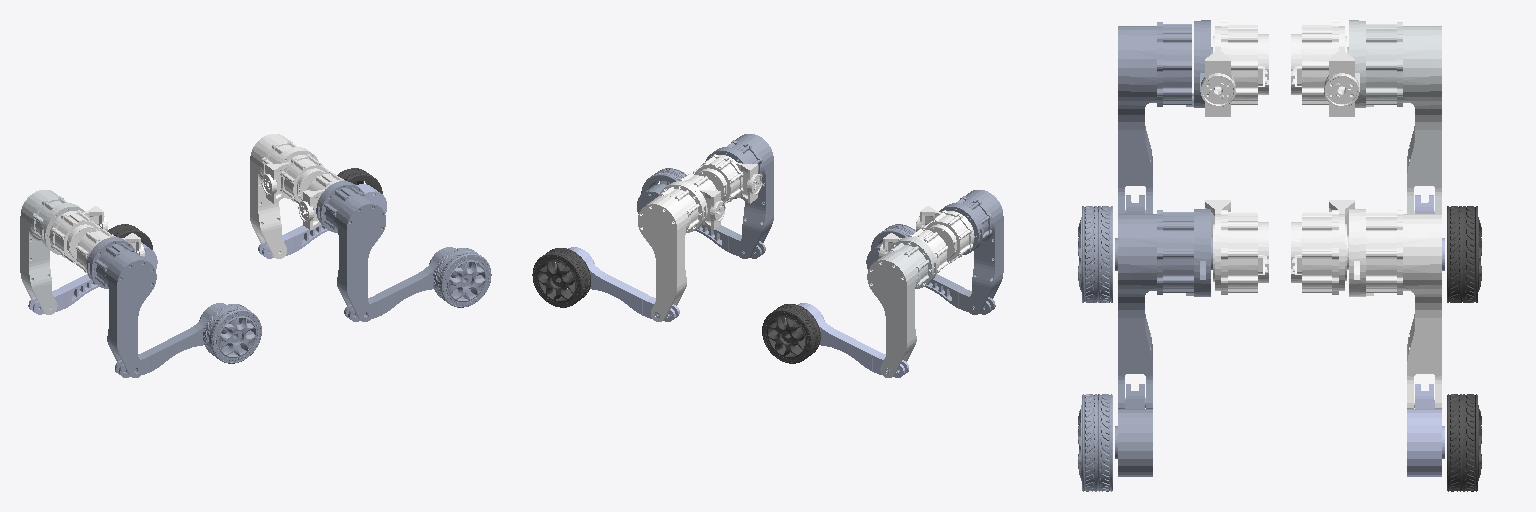
The robot description file, URDF, robot "d1_w_description":
<?xml version="1.0" encoding="utf-8"?>
<!-- This URDF was automatically created by SolidWorks to URDF Exporter! Originally created by Stephen Brawner (brawner@gmail.com) 
     Commit Version: 1.6.0-4-g7f85cfe  Build Version: 1.6.7995.38578
     For more information, please see http://wiki.ros.org/sw_urdf_exporter -->
<robot
  name="d1_w_description">

  <link
    name="base">
    <inertial>
      <origin
        xyz="-0.002298 -0.002853 0.065462"
        rpy="0 0 0" />
      <mass
        value="19.451233" />
        <!--14.451233  -->
      <inertia
        ixx="0.093082"
        ixy="-0.000441"
        ixz="0.007098"
        iyy="0.279870"
        iyz="-0.000490"
        izz="0.337691" />
    </inertial>
    <visual>
      <origin
        xyz="0 0 0"
        rpy="0 0 0" />
      <geometry>
        <mesh
          filename="../meshes/base.STL" />
      </geometry>
      <material
        name="">
        <color
          rgba="0.752941176470588 0.752941176470588 0.752941176470588 1" />
      </material>
    </visual>
    <collision>
      <origin rpy="0 0 0" xyz="0 0 0.07" />
      <geometry>
        <box size="0.41 0.28 0.14" />
      </geometry>
    </collision>
  </link>
  <link
    name="FL_hip">
    <inertial>
      <origin
        xyz="0.076832 -0.021546 -0.000013"
        rpy="0 0 0" />
      <mass
        value="1.405187" />
      <inertia
        ixx="0.001540"
        ixy="-0.000175"
        ixz="0.000001"
        iyy="0.002227"
        iyz="-0.000006"
        izz="0.001930" />
    </inertial>
    <visual>
      <origin
        xyz="0 0 0"
        rpy="0 0 0" />
      <geometry>
        <mesh
          filename="../meshes/FL_hip.STL" />
      </geometry>
      <material
        name="">
        <color
          rgba="1 1 1 1" />
      </material>
    </visual>
    <collision>
      <origin rpy="1.5707963267948966 0 0" xyz="0.081 0.036 0" />
      <geometry>
        <cylinder radius="0.051" length="0.073" />
      </geometry>
    </collision>
  </link>
  <joint
    name="FL_hip_joint"
    type="revolute">
    <origin
      xyz="0.206 0.0799999989434106 0.0699999980115305"
      rpy="0 0 0" />
    <parent
      link="base" />
    <child
      link="FL_hip" />
    <axis
      xyz="1 0 0" />
    <limit
      lower="-1.0472"
      upper="1.0472"
      effort="60.0"
      velocity="10" />
  </joint>
  <link
    name="FL_thigh">
    <inertial>
      <origin
        xyz="-0.003316 0.065740 -0.022996"
        rpy="0 0 0" />
      <mass
        value="2.228344" />
      <inertia
        ixx="0.010877"
        ixy="-0.000319"
        ixz="0.000678"
        iyy="0.009679"
        iyz="-0.002095"
        izz="0.004396" />
    </inertial>
    <visual>
      <origin
        xyz="0 0 0"
        rpy="0 0 0" />
      <geometry>
        <mesh
          filename="../meshes/FL_thigh.STL" />
      </geometry>
      <material
        name="">
        <color
          rgba="1 1 1 1" />
      </material>
    </visual>
    <collision>
      <origin rpy="0 0 0" xyz="0 0.111 -0.1075" />
      <geometry>
        <box size="0.035 0.035 0.215" />
      </geometry>
    </collision>
  </link>
  <joint
    name="FL_thigh_joint"
    type="revolute">
    <origin
      xyz="0.0825000000065006 0.00200000105757563 0"
      rpy="0 0 0" />
    <parent
      link="FL_hip" />
    <child
      link="FL_thigh" />
    <axis
      xyz="0 1 0" />
    <limit
      lower="-0.5236"
      upper="4.5379"
      effort="60.0"
      velocity="10" />
  </joint>
  <link
    name="FL_calf">
    <inertial>
      <origin
        xyz="0.000016 0.000667 -0.170288"
        rpy="0 0 0" />
      <mass
        value="0.991984" />
      <inertia
        ixx="0.007222"
        ixy="0.000001"
        ixz="-0.000064"
        iyy="0.007407"
        iyz="0.000010"
        izz="0.000381" />
    </inertial>
    <visual>
      <origin
        xyz="0 0 0"
        rpy="0 0 0" />
      <geometry>
        <mesh
          filename="../meshes/FL_calf.STL" />
      </geometry>
      <material
        name="">
        <color
          rgba="0.792156862745098 0.819607843137255 0.933333333333333 1" />
      </material>
    </visual>
    <collision>
      <origin rpy="0 0 0" xyz="0 0 -0.115" />
      <geometry>
        <cylinder length="0.23" radius="0.016" />
      </geometry>
    </collision>
  </link>
  <joint
    name="FL_calf_joint"
    type="revolute">
    <origin
      xyz="0 0.1055 -0.215000000000001"
      rpy="0 0 0" />
    <parent
      link="FL_thigh" />
    <child
      link="FL_calf" />
    <axis
      xyz="0 1 0" />
    <limit
      lower="-2.7227"
      upper="-0.83776"
      effort="60.0"
      velocity="10" />
  </joint>
  <link
    name="FL_foot">
    <inertial>
      <origin
        xyz="0 0.026380 0.000006"
        rpy="0 0 0" />
      <mass
        value="0.52" />
      <inertia
        ixx="0.000729"
        ixy="0.000000"
        ixz="0.000000"
        iyy="0.001308"
        iyz="0.000000"
        izz="0.000729" />
    </inertial>
    <visual>
      <origin
        xyz="0 0 0"
        rpy="0 0 0" />
      <geometry>
        <mesh
          filename="../meshes/FL_foot.STL" />
      </geometry>
      <material
        name="">
        <color
          rgba="0.376470588235294 0.376470588235294 0.376470588235294 1" />
      </material>
    </visual>
    <collision>
      <origin rpy="1.5707963267948966 0 0" xyz="0 0.02 0" />
      <geometry>
        <cylinder length="0.04" radius="0.063" />
      </geometry>
    </collision>
  </link>
  <joint
    name="FL_foot_joint"
    type="revolute">
    <origin
      xyz="0 0.0244999999999999 -0.23"
      rpy="0 0 0" />
    <parent
      link="FL_calf" />
    <child
      link="FL_foot" />
    <axis
      xyz="0 1 0" />
    <limit
      effort="17.0"
      velocity="10"
      lower="-999999"
      upper="999999" />
  </joint>

  <link
    name="FR_hip">
    <inertial>
      <origin
        xyz="0.076832 0.021546 -0.000013"
        rpy="0 0 0" />
      <mass
        value="1.405187" />
      <inertia
        ixx="0.001540"
        ixy="0.000175"
        ixz="0.000001"
        iyy="0.002227"
        iyz="0.000006"
        izz="0.001930" />
    </inertial>
    <visual>
      <origin
        xyz="0 0 0"
        rpy="0 0 0" />
      <geometry>
        <mesh
          filename="../meshes/FR_hip.STL" />
      </geometry>
      <material
        name="">
        <color
          rgba="1 1 1 1" />
      </material>
    </visual>
    <collision>
      <origin rpy="1.5707963267948966 0 0" xyz="0.081 -0.036 0" />
      <geometry>
        <cylinder radius="0.051" length="0.073" />
      </geometry>
    </collision>
  </link>
  <joint
    name="FR_hip_joint"
    type="revolute">
    <origin
      xyz="0.203000000424813 -0.0799999992709444 0.0699999995929411"
      rpy="0 0 0" />
    <parent
      link="base" />
    <child
      link="FR_hip" />
    <axis
      xyz="1 0 0" />
    <limit
      lower="-1.0472"
      upper="1.0472"
      effort="60.0"
      velocity="10" />
  </joint>
  <link
    name="FR_thigh">
    <inertial>
      <origin
        xyz="-0.003316 -0.065740 -0.022996"
        rpy="0 0 0" />
      <mass
        value="2.228344" />
      <inertia
        ixx="0.010877"
        ixy="0.000319"
        ixz="0.000678"
        iyy="0.009679"
        iyz="0.002095"
        izz="0.004396" />
    </inertial>
    <visual>
      <origin
        xyz="0 0 0"
        rpy="0 0 0" />
      <geometry>
        <mesh
          filename="../meshes/FR_thigh.STL" />
      </geometry>
      <material
        name="">
        <color
          rgba="0.666666666666667 0.698039215686274 0.768627450980392 1" />
      </material>
    </visual>
    <collision>
      <origin rpy="0 0 0" xyz="0 -0.111 -0.1075" />
      <geometry>
        <box size="0.035 0.035 0.215" />
      </geometry>
    </collision>
  </link>
  <joint
    name="FR_thigh_joint"
    type="revolute">
    <origin
      xyz="0.0854999995816879 -0.00200000073004185 0"
      rpy="0 0 0" />
    <parent
      link="FR_hip" />
    <child
      link="FR_thigh" />
    <axis
      xyz="0 1 0" />
    <limit
      lower="-0.5236"
      upper="4.5379"
      effort="60.0"
      velocity="10" />
  </joint>
  <link
    name="FR_calf">
    <inertial>
      <origin
        xyz="0.000016 -0.000667 -0.170288"
        rpy="0 0 0" />
      <mass
        value="0.991984" />
      <inertia
        ixx="0.007222"
        ixy="-0.000001"
        ixz="-0.000064"
        iyy="0.007407"
        iyz="-0.000010"
        izz="0.000381" />
    </inertial>
    <visual>
      <origin
        xyz="0 0 0"
        rpy="0 0 0" />
      <geometry>
        <mesh
          filename="../meshes/FR_calf.STL" />
      </geometry>
      <material
        name="">
        <color
          rgba="0.666666666666667 0.698039215686274 0.768627450980392 1" />
      </material>
    </visual>
    <collision>
      <origin rpy="0 0 0" xyz="0 0 -0.115" />
      <geometry>
        <cylinder length="0.23" radius="0.016" />
      </geometry>
    </collision>
  </link>
  <joint
    name="FR_calf_joint"
    type="revolute">
    <origin
      xyz="0 -0.1055 -0.21499999998551"
      rpy="0 0 0" />
    <parent
      link="FR_thigh" />
    <child
      link="FR_calf" />
    <axis
      xyz="0 1 0" />
    <limit
      lower="-2.7227"
      upper="-0.83776"
      effort="60.0"
      velocity="10" />
  </joint>
  <link
    name="FR_foot">
    <inertial>
      <origin
        xyz="0 -0.026380 0.000006"
        rpy="0 0 0" />
      <mass
        value="0.52" />
      <inertia
        ixx="0.000729"
        ixy="0.000000"
        ixz="0.000000"
        iyy="0.001308"
        iyz="0.000000"
        izz="0.000729" />
    </inertial>
    <visual>
      <origin
        xyz="0 0 0"
        rpy="0 0 0" />
      <geometry>
        <mesh
          filename="../meshes/FR_foot.STL" />
      </geometry>
      <material
        name="">
        <color
          rgba="0.666666666666667 0.698039215686274 0.768627450980392 1" />
      </material>
    </visual>
    <collision>
      <origin rpy="1.5707963267948966 0 0" xyz="0 -0.02 0" />
      <geometry>
        <cylinder length="0.04" radius="0.063" />
      </geometry>
    </collision>
  </link>
  <joint
    name="FR_foot_joint"
    type="revolute">
    <origin
      xyz="0 -0.0245000000000001 -0.23"
      rpy="0 0 0" />
    <parent
      link="FR_calf" />
    <child
      link="FR_foot" />
    <axis
      xyz="0 1 0" />
    <limit
      effort="17.0"
      velocity="10"
      lower="-999999"
      upper="999999" />
  </joint>

  <link
    name="RL_hip">
    <inertial>
      <origin
        xyz="-0.076832 -0.021546 -0.000013"
        rpy="0 0 0" />
      <mass
        value="1.405187" />
      <inertia
        ixx="0.001540"
        ixy="0.000175"
        ixz="-0.000001"
        iyy="0.002227"
        iyz="-0.000006"
        izz="0.001930" />
    </inertial>
    <visual>
      <origin
        xyz="0 0 0"
        rpy="0 0 0" />
      <geometry>
        <mesh
          filename="../meshes/RL_hip.STL" />
      </geometry>
      <material
        name="">
        <color
          rgba="1 1 1 1" />
      </material>
    </visual>
    <collision>
      <origin rpy="1.5707963267948966 0 0" xyz="-0.081 0.036 0" />
      <geometry>
        <cylinder radius="0.051" length="0.073" />
      </geometry>
    </collision>
  </link>
  <joint
    name="RL_hip_joint"
    type="revolute">
    <origin
      xyz="-0.203000000000068 0.0800000000003662 0.0700000000016139"
      rpy="0 0 0" />
    <parent
      link="base" />
    <child
      link="RL_hip" />
    <axis
      xyz="1 0 0" />
    <limit
      lower="-1.0472"
      upper="1.0472"
      effort="60.0"
      velocity="10" />
  </joint>
  <link
    name="RL_thigh">
    <inertial>
      <origin
        xyz="0.003316 0.065740 -0.022996"
        rpy="0 0 0" />
      <mass
        value="2.228344" />
      <inertia
        ixx="0.010877"
        ixy="0.000319"
        ixz="-0.000678"
        iyy="0.009679"
        iyz="-0.002095"
        izz="0.004396" />
    </inertial>
    <visual>
      <origin
        xyz="0 0 0"
        rpy="0 0 0" />
      <geometry>
        <mesh
          filename="../meshes/RL_thigh.STL" />
      </geometry>
      <material
        name="">
        <color
          rgba="0.898039215686275 0.917647058823529 0.929411764705882 1" />
      </material>
    </visual>
    <collision>
      <origin rpy="0 0 0" xyz="0 0.111 -0.1075" />
      <geometry>
        <box size="0.035 0.035 0.215" />
      </geometry>
    </collision>
  </link>
  <joint
    name="RL_thigh_joint"
    type="revolute">
    <origin
      xyz="-0.0855000000064284 0.00200000000061865 0"
      rpy="0 0 0" />
    <parent
      link="RL_hip" />
    <child
      link="RL_thigh" />
    <axis
      xyz="0 1 0" />
    <limit
      lower="-0.5236"
      upper="4.5379"
      effort="60.0"
      velocity="10" />
  </joint>
  <link
    name="RL_calf">
    <inertial>
      <origin
        xyz="-0.000016 0.000667 -0.170288"
        rpy="0 0 0" />
      <mass
        value="0.991984" />
      <inertia
        ixx="0.007222"
        ixy="-0.000001"
        ixz="0.000064"
        iyy="0.007407"
        iyz="0.000010"
        izz="0.000381" />
    </inertial>
    <visual>
      <origin
        xyz="0 0 0"
        rpy="0 0 0" />
      <geometry>
        <mesh
          filename="../meshes/RL_calf.STL" />
      </geometry>
      <material
        name="">
        <color
          rgba="0.792156862745098 0.819607843137255 0.933333333333333 1" />
      </material>
    </visual>
    <collision>
      <origin rpy="0 0 0" xyz="0 0 -0.115" />
      <geometry>
        <cylinder length="0.23" radius="0.016" />
      </geometry>
    </collision>
  </link>
  <joint
    name="RL_calf_joint"
    type="revolute">
    <origin
      xyz="0 0.1055 -0.215000000000001"
      rpy="0 0 0" />
    <parent
      link="RL_thigh" />
    <child
      link="RL_calf" />
    <axis
      xyz="0 1 0" />
    <limit
      lower="-2.7227"
      upper="-0.83776"
      effort="60.0"
      velocity="10" />
  </joint>
  <link
    name="RL_foot">
    <inertial>
      <origin
        xyz="0 0.026380 0.000006"
        rpy="0 0 0" />
      <mass
        value="0.52" />
      <inertia
        ixx="0.000729"
        ixy="0.000000"
        ixz="0.000000"
        iyy="0.001308"
        iyz="0.000000"
        izz="0.000729" />
    </inertial>
    <visual>
      <origin
        xyz="0 0 0"
        rpy="0 0 0" />
      <geometry>
        <mesh
          filename="../meshes/RL_foot.STL" />
      </geometry>
      <material
        name="">
        <color
          rgba="0.376470588235294 0.376470588235294 0.376470588235294 1" />
      </material>
    </visual>
    <collision>
      <origin rpy="1.5707963267948966 0 0" xyz="0 0.02 0" />
      <geometry>
        <cylinder length="0.04" radius="0.063" />
      </geometry>
    </collision>
  </link>
  <joint
    name="RL_foot_joint"
    type="revolute">
    <origin
      xyz="0 0.0245000000000001 -0.23"
      rpy="0 0 0" />
    <parent
      link="RL_calf" />
    <child
      link="RL_foot" />
    <axis
      xyz="0 1 0" />
    <limit
      effort="60.0"
      velocity="10"
      lower="-999999"
      upper="999999" />
  </joint>
  
  <link
    name="RR_hip">
    <inertial>
      <origin
        xyz="-0.076832 0.021546 -0.000013"
        rpy="0 0 0" />
      <mass
        value="1.405187" />
      <inertia
        ixx="0.001540"
        ixy="0.000175"
        ixz="-0.000001"
        iyy="0.002227"
        iyz="0.000006"
        izz="0.001930" />
    </inertial>
    <visual>
      <origin
        xyz="0 0 0"
        rpy="0 0 0" />
      <geometry>
        <mesh
          filename="../meshes/RR_hip.STL" />
      </geometry>
      <material
        name="">
        <color
          rgba="1 1 1 1" />
      </material>
    </visual>
    <collision>
      <origin rpy="1.5707963267948966 0 0" xyz="-0.081 -0.036 0" />
      <geometry>
        <cylinder radius="0.051" length="0.073" />
      </geometry>
    </collision>
  </link>
  <joint
    name="RR_hip_joint"
    type="revolute">
    <origin
      xyz="-0.202999999998229 -0.0800000000003905 0.0700000000034181"
      rpy="0 0 0" />
    <parent
      link="base" />
    <child
      link="RR_hip" />
    <axis
      xyz="1 0 0" />
    <limit
      lower="-1.0472"
      upper="1.0472"
      effort="60.0"
      velocity="10" />
  </joint>
  <link
    name="RR_thigh">
    <inertial>
      <origin
        xyz="0.003316 -0.065740 -0.022996"
        rpy="0 0 0" />
      <mass
        value="2.228344" />
      <inertia
        ixx="0.010877"
        ixy="0.000319"
        ixz="-0.000678"
        iyy="0.009679"
        iyz="0.002095"
        izz="0.004396" />
    </inertial>
    <visual>
      <origin
        xyz="0 0 0"
        rpy="0 0 0" />
      <geometry>
        <mesh
          filename="../meshes/RR_thigh.STL" />
      </geometry>
      <material
        name="">
        <color
          rgba="0.666666666666667 0.698039215686274 0.768627450980392 1" />
      </material>
    </visual>
    <collision>
      <origin rpy="0 0 0" xyz="0 -0.111 -0.1075" />
      <geometry>
        <box size="0.035 0.035 0.215" />
      </geometry>
    </collision>
  </link>
  <joint
    name="RR_thigh_joint"
    type="revolute">
    <origin
      xyz="-0.0855000000082704 -0.00200000000059336 0"
      rpy="0 0 0" />
    <parent
      link="RR_hip" />
    <child
      link="RR_thigh" />
    <axis
      xyz="0 1 0" />
    <limit
      lower="-0.5236"
      upper="4.5379"
      effort="60.0"
      velocity="10" />
  </joint>
  <link
    name="RR_calf">
    <inertial>
      <origin
        xyz="-0.000016 -0.000667 -0.170288"
        rpy="0 0 0" />
      <mass
        value="0.991984" />
      <inertia
        ixx="0.007222"
        ixy="-0.000001"
        ixz="0.000064"
        iyy="0.007407"
        iyz="-0.000010"
        izz="0.000381" />
    </inertial>
    <visual>
      <origin
        xyz="0 0 0"
        rpy="0 0 0" />
      <geometry>
        <mesh
          filename="../meshes/RR_calf.STL" />
      </geometry>
      <material
        name="">
        <color
          rgba="0.666666666666667 0.698039215686274 0.768627450980392 1" />
      </material>
    </visual>
    <collision>
      <origin rpy="0 0 0" xyz="0 0 -0.115" />
      <geometry>
        <cylinder length="0.23" radius="0.016" />
      </geometry>
    </collision>
  </link>
  <joint
    name="RR_calf_joint"
    type="revolute">
    <origin
      xyz="0 -0.105500000000001 -0.215000000010456"
      rpy="0 0 0" />
    <parent
      link="RR_thigh" />
    <child
      link="RR_calf" />
    <axis
      xyz="0 1 0" />
    <limit
      lower="-2.7227"
      upper="-0.83776"
      effort="60.0"
      velocity="10" />
  </joint>
  <link
    name="RR_foot">
    <inertial>
      <origin
        xyz="0 -0.026380 0.000006"
        rpy="0 0 0" />
      <mass
        value="0.52" />
      <inertia
        ixx="0.000729"
        ixy="0.000000"
        ixz="0.000000"
        iyy="0.001308"
        iyz="0.000000"
        izz="0.000729" />
    </inertial>
    <visual>
      <origin
        xyz="0 0 0"
        rpy="0 0 0" />
      <geometry>
        <mesh
          filename="../meshes/RR_foot.STL" />
      </geometry>
      <material
        name="">
        <color
          rgba="0.666666666666667 0.698039215686274 0.768627450980392 1" />
      </material>
    </visual>
    <collision>
      <origin rpy="1.5707963267948966 0 0" xyz="0 -0.02 0" />
      <geometry>
        <cylinder length="0.04" radius="0.063" />
      </geometry>
    </collision>
  </link>
  <joint
    name="RR_foot_joint"
    type="revolute">
    <origin
      xyz="0 -0.0245 -0.23"
      rpy="0 0 0" />
    <parent
      link="RR_calf" />
    <child
      link="RR_foot" />
    <axis
      xyz="0 1 0" />
    <limit
      effort="60.0"
      velocity="10"
      lower="-999999"
      upper="999999" />
  </joint>
  
  <link name="imu_link">
    <inertial>
      <origin xyz="0 0 0" rpy="0 0 0" />
      <mass value="0" />
      <inertia ixx="0" ixy="0" ixz="0" iyy="0" iyz="0" izz="0" />
    </inertial>
  </link>
  <joint name="imu_joint" type="fixed">
    <origin xyz="-0.02557 0 0.04232" rpy="0 0 0" />
    <parent link="base" />
    <child link="imu_link" />
    <axis xyz="0 0 0" />
  </joint>
  <link name="radar">
    <inertial>
      <origin xyz="0 0 0" rpy="0 0 0" />
      <mass value="0" />
      <inertia ixx="0" ixy="0" ixz="0" iyy="0" iyz="0" izz="0" />
    </inertial>
  </link>
  <joint name="radar_joint" type="fixed">
    <origin xyz="0.28945 0 -0.046825" rpy="0 2.8782 0" />
    <parent link="base" />
    <child link="radar" />
    <axis xyz="0 0 0" />
  </joint>
</robot>

--- Facts derived from the render (not from the file) ---
The picture shows the robot from 3 angles, left to right: view 1: azimuth 30°, elevation 25°; view 2: azimuth 150°, elevation 25°; view 3: azimuth 270°, elevation 25°; orthographic projection.
Robot: d1_w_description — 19 links, 18 joints (16 revolute, 2 fixed); root link base; default pose: all joints at 0 but 4 set to mid-range because 0 is outside their limits (FL_calf_joint = -1.78, FR_calf_joint = -1.78, RL_calf_joint = -1.78, RR_calf_joint = -1.78).
Visible links, largest first — view 1: RR_thigh, FR_thigh, RL_thigh, FL_thigh, RR_foot, FR_foot, FL_hip, RL_hip, FR_calf, RR_calf, FL_calf, RL_calf (+2 smaller); view 2: RL_thigh, FL_thigh, RR_thigh, FR_thigh, RL_foot, FL_foot, FR_hip, RR_hip, FL_calf, RL_calf, FR_calf, RR_calf (+2 smaller); view 3: FL_thigh, FR_thigh, RL_thigh, RR_thigh, RL_hip, RR_hip, FR_hip, FL_hip, FL_foot, FR_foot, RL_foot, RR_foot (+2 smaller).
Boxes of the visible links, x1,y1,x2,y2 form: RR_thigh: (87, 237, 156, 377); FR_thigh: (316, 181, 385, 321); RL_thigh: (20, 190, 84, 314); FL_thigh: (250, 134, 318, 258); RR_foot: (203, 304, 261, 363); FR_foot: (433, 248, 491, 307); FL_hip: (262, 154, 330, 203); RL_hip: (49, 206, 107, 263); FR_calf: (344, 247, 468, 321); RR_calf: (115, 303, 238, 377); FL_calf: (258, 184, 386, 258); RL_calf: (28, 242, 157, 314); RL_thigh: (867, 237, 936, 377); FL_thigh: (638, 181, 707, 321); RR_thigh: (939, 190, 1003, 314); FR_thigh: (705, 134, 773, 258); RL_foot: (762, 304, 820, 363); FL_foot: (532, 248, 590, 307); FR_hip: (693, 154, 761, 203); RR_hip: (916, 206, 974, 263); FL_calf: (555, 247, 679, 321); RL_calf: (785, 303, 908, 377); FR_calf: (637, 184, 765, 258); RR_calf: (866, 242, 995, 314); FL_thigh: (1347, 209, 1441, 408); FR_thigh: (1118, 209, 1212, 408); RL_thigh: (1347, 20, 1441, 213); RR_thigh: (1118, 20, 1212, 213); RL_hip: (1291, 22, 1358, 116); RR_hip: (1201, 22, 1268, 116); FR_hip: (1205, 200, 1268, 294); FL_hip: (1291, 200, 1354, 294); FL_foot: (1447, 394, 1481, 491); FR_foot: (1078, 394, 1112, 491); RL_foot: (1447, 206, 1481, 302); RR_foot: (1078, 206, 1112, 302).
Size in the robot's own frame: 0.9219 by 0.523 by 0.2909 metres.
Meshes: 17 distinct files referenced, 16 mesh visuals loaded (16 binary STL); not drawn: 1 (reference not matched to a file when rendering).
